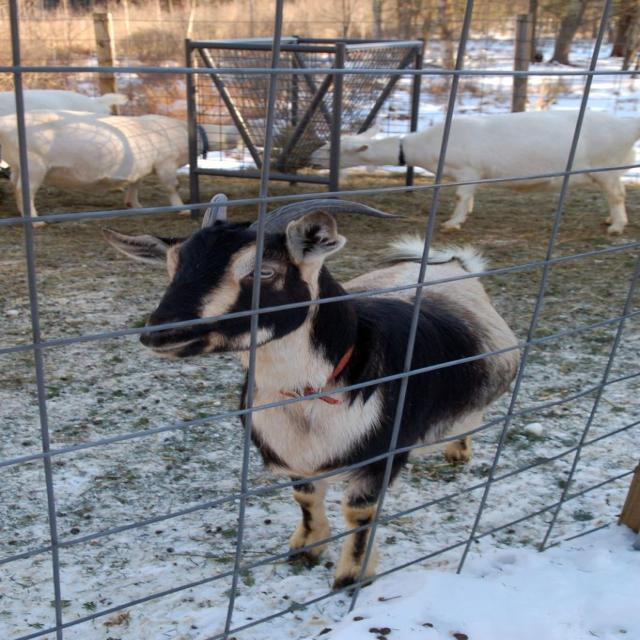Goat: (102, 192, 526, 593), (306, 108, 638, 236), (0, 108, 209, 229), (0, 88, 129, 117)
